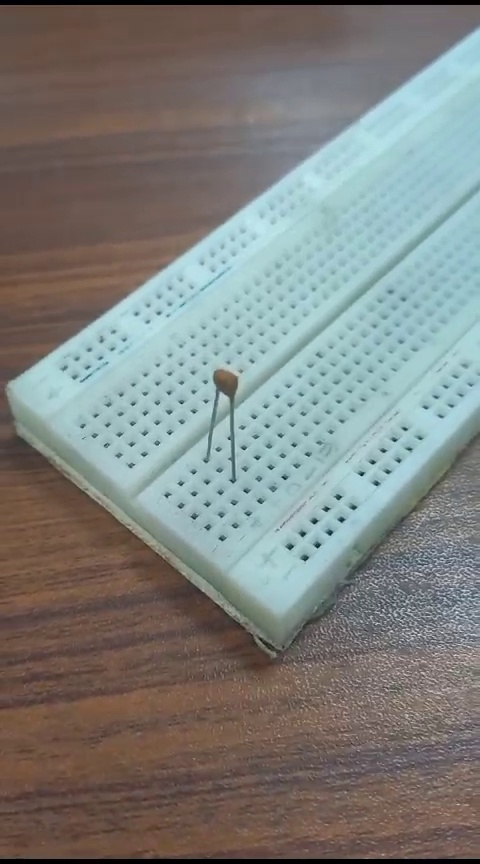ceramic capacitor: (202, 360, 242, 475)
